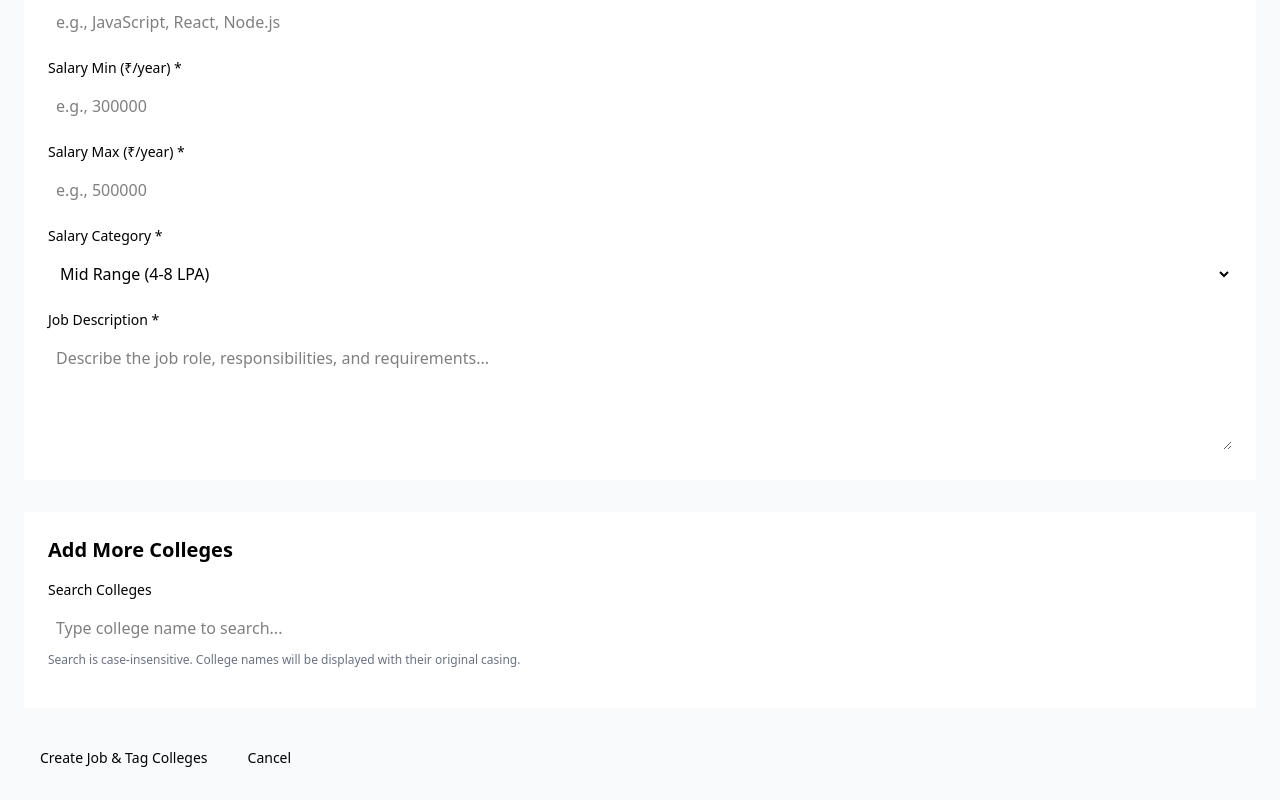
it: Organization College Tagging Page › Adding Colleges › displays tagged colleges with original casing
(page scrolled)
Type "mit" into the field with placeholder "Type college name to search..." at [640, 628], box x1=48 y1=608 x2=1232 y2=648
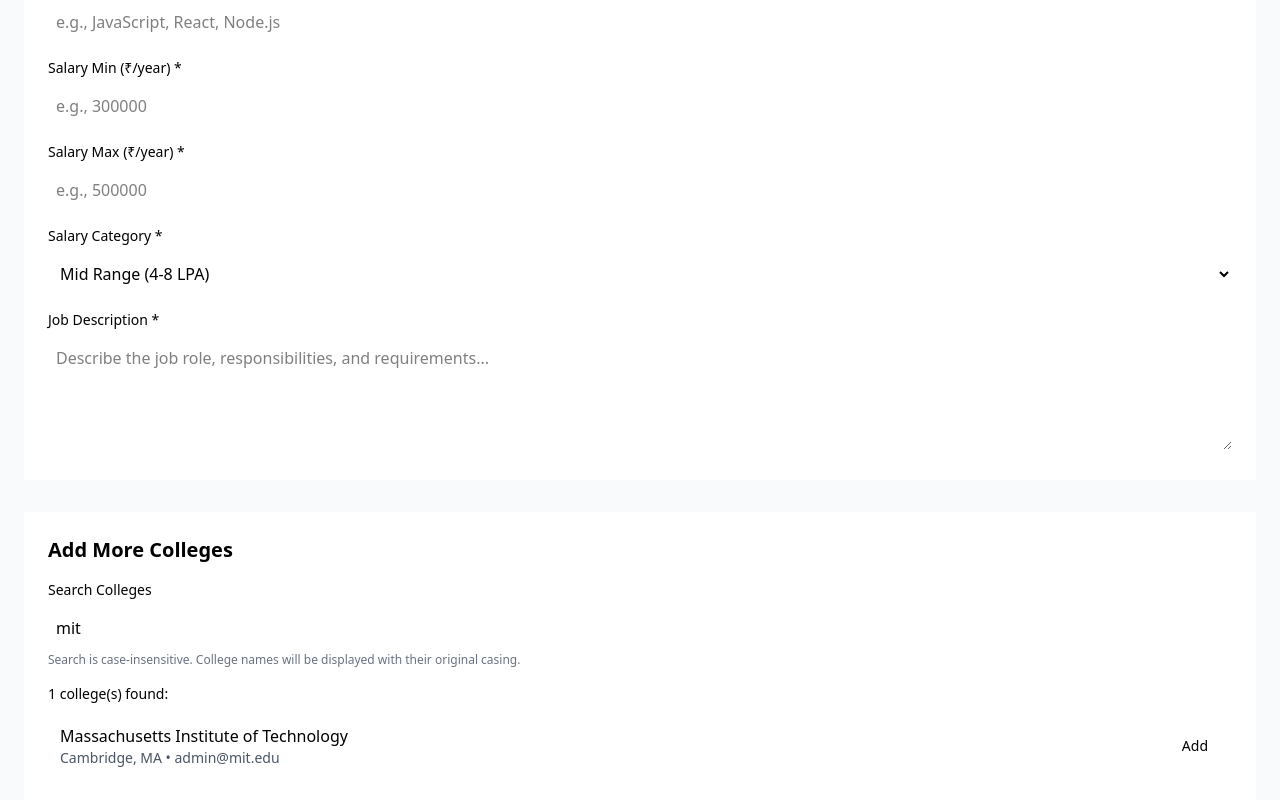
Click the button "Add" at [1195, 746], box x1=1170 y1=730 x2=1220 y2=762
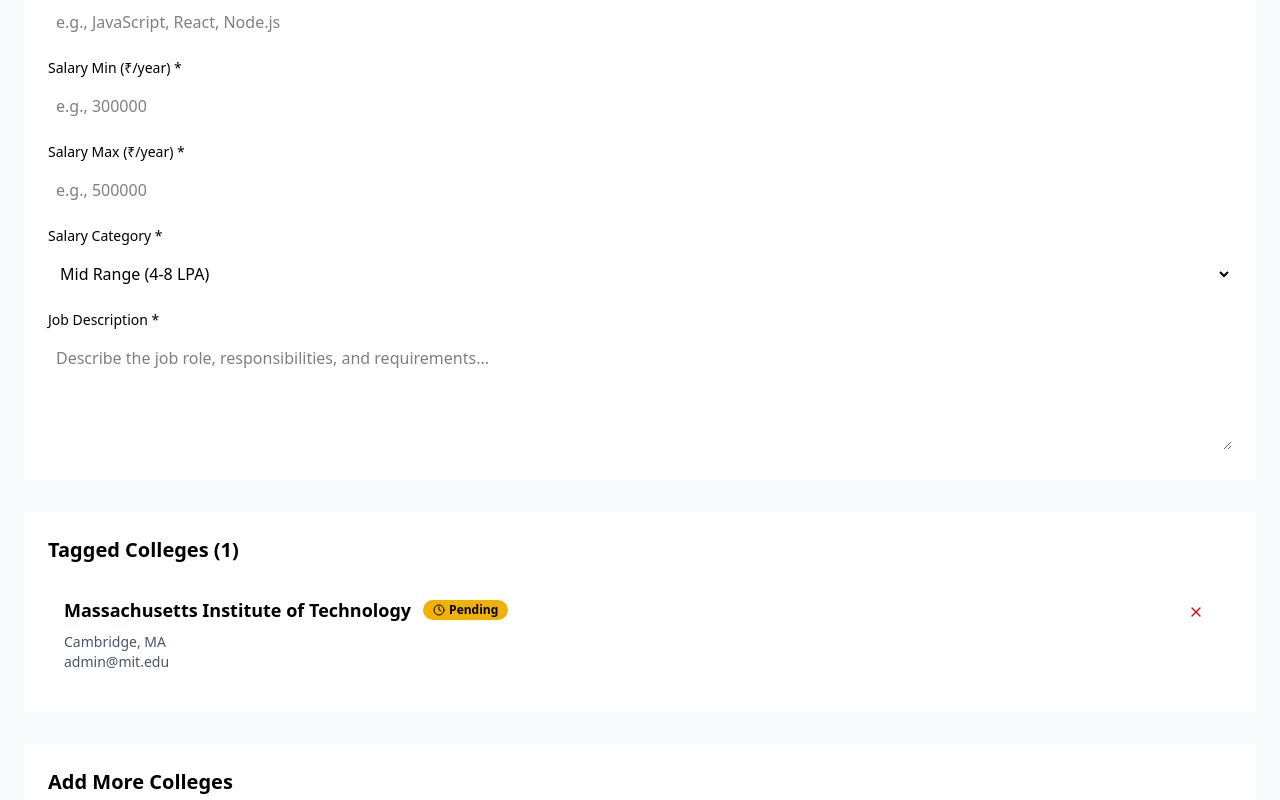
Result: the text "Tagged Colleges" shows "Massachusetts Institute of Technology" at x1=64 y1=598 x2=411 y2=622
